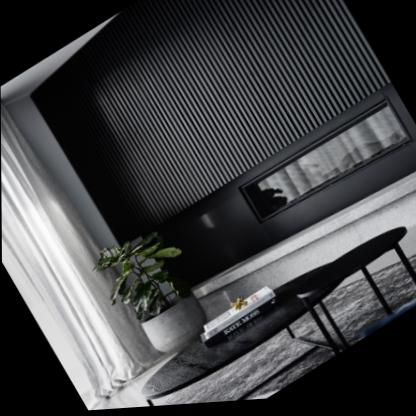Curtains: (1, 102, 164, 401)
Wall Panel: (28, 0, 392, 250)
